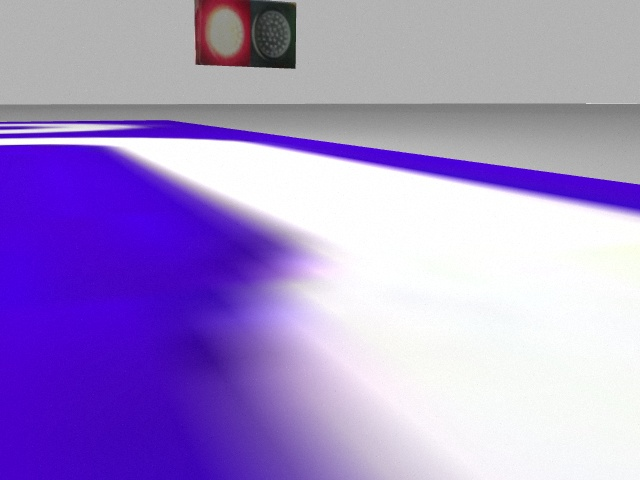red: (193, 1, 250, 66)
